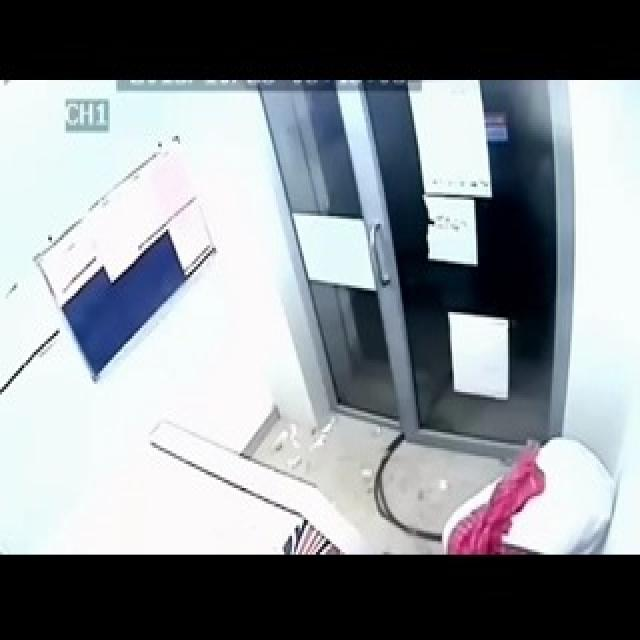thief: (428, 425, 614, 550)
